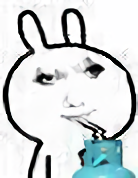dragon: (34, 58, 107, 121)
